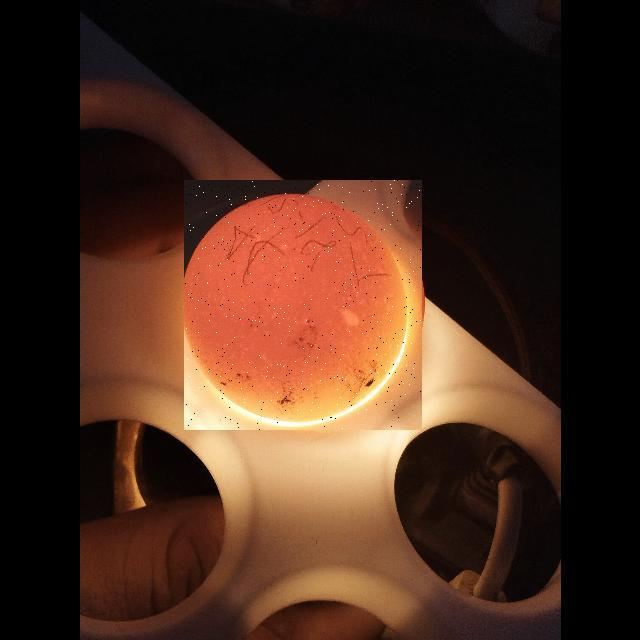Infertile: (184, 180, 422, 430)
